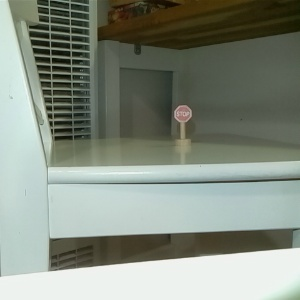stop sign: (172, 103, 193, 150)
